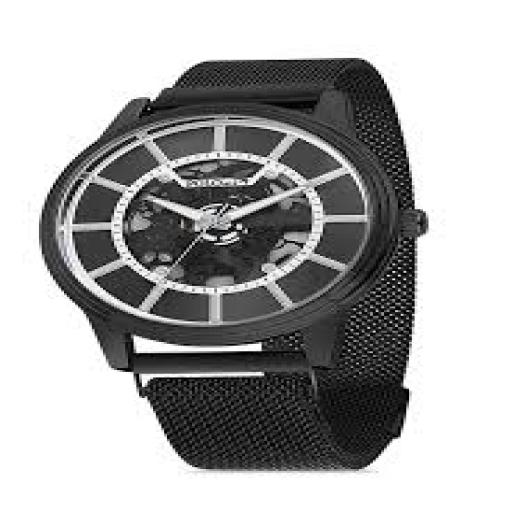KolSaati: (10, 24, 496, 500)
